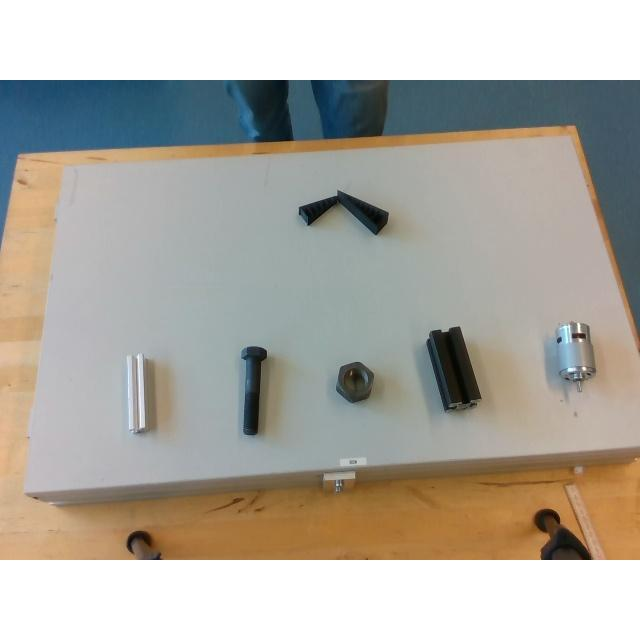F20_20_G: (126, 353, 150, 431)
M20_100: (241, 346, 265, 434)
M30: (336, 361, 372, 401)
Motor2: (556, 321, 596, 385)
S40_40_B: (428, 326, 480, 409)
